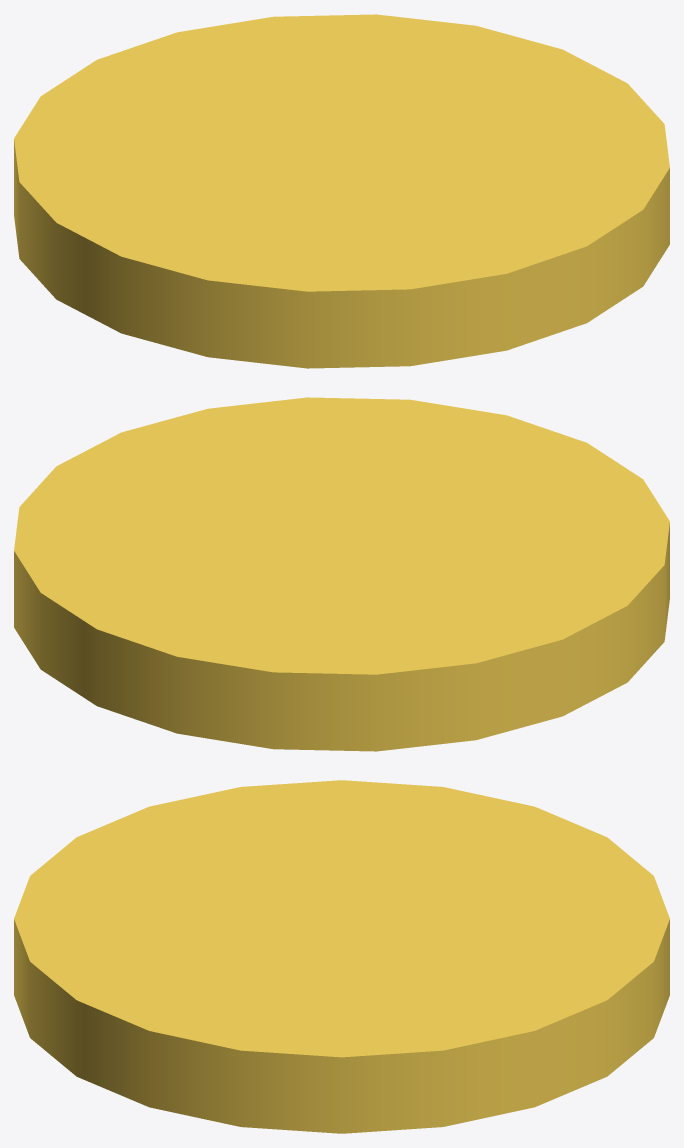
File: Circulo_Central.fbx
3 renders of one model, top to bottom at view 1: azimuth 30°, elevation 25°; view 2: azimuth 150°, elevation 25°; view 3: azimuth 270°, elevation 25°, orthographic.
Parts seen in each view (by area): view 1: pCylinder6; view 2: pCylinder6; view 3: pCylinder6.
Boxes of the visible parts, x1,y1,x2,y2 form: pCylinder6: (14,14,669,368); pCylinder6: (14,397,669,751); pCylinder6: (14,780,669,1133).
Size of the model in its own units: 6.14 by 0.7887 by 6.14.
